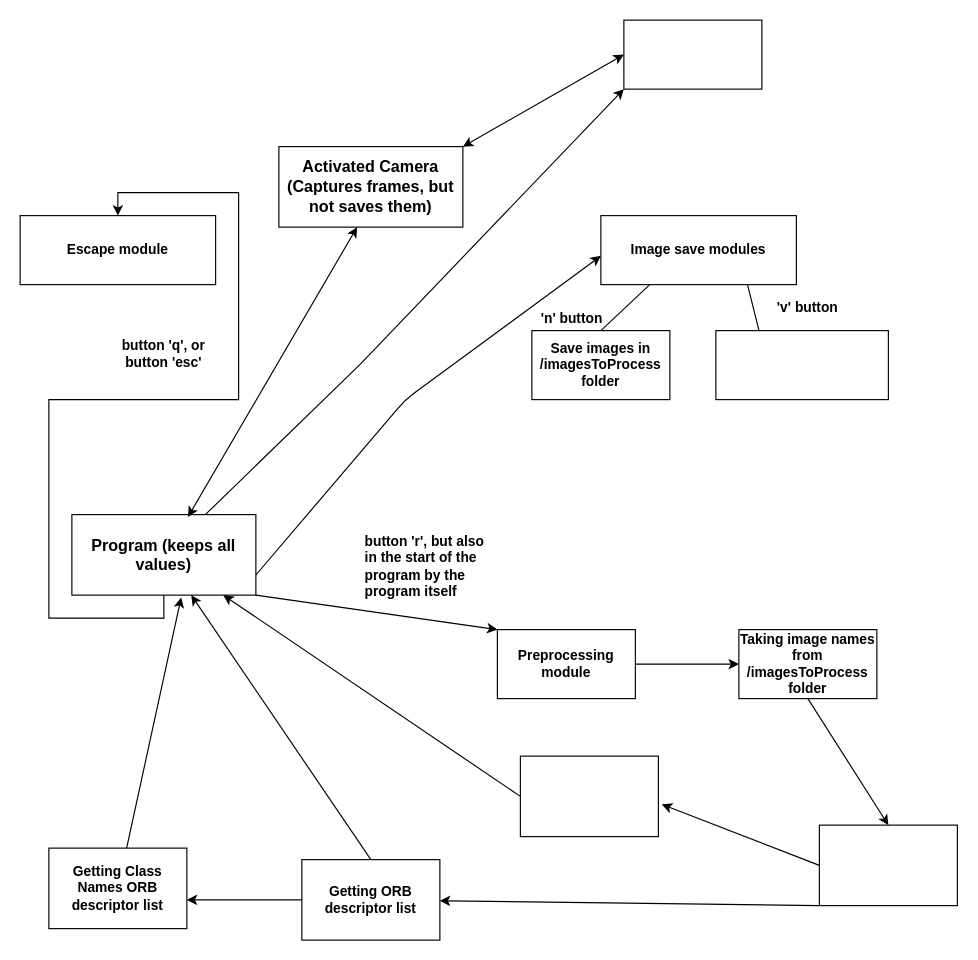
Some shapes in this 978 by 960 pixel diagram are drawn without their labels. Here are the shapes that lost their labels. From the top down, the centre of each, then its label:
At point (692, 54): "Image recognition module".
At point (801, 364): "Save images in /resultsOfProcessing folder".
At point (588, 796): "Getting ORB descriptor values".
At point (887, 865): "Calculating and writing ORB to /imageORBfiles folder".
